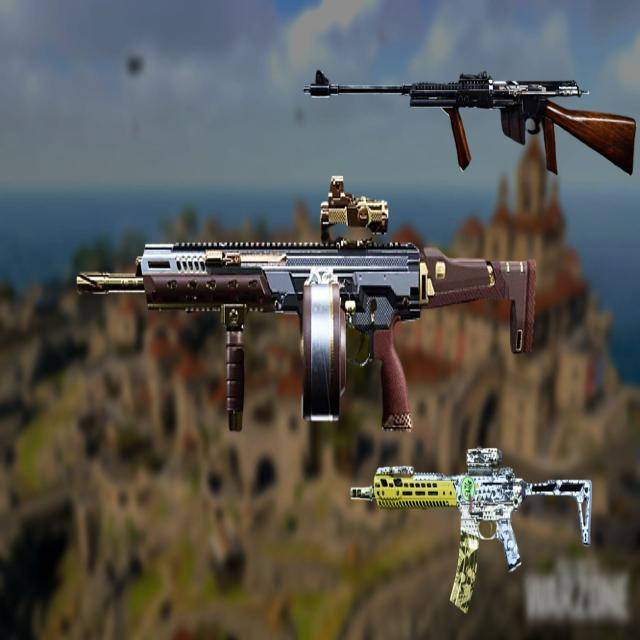Rifle: (74, 177, 532, 434), (348, 448, 593, 613)
SMG: (308, 70, 636, 175)
